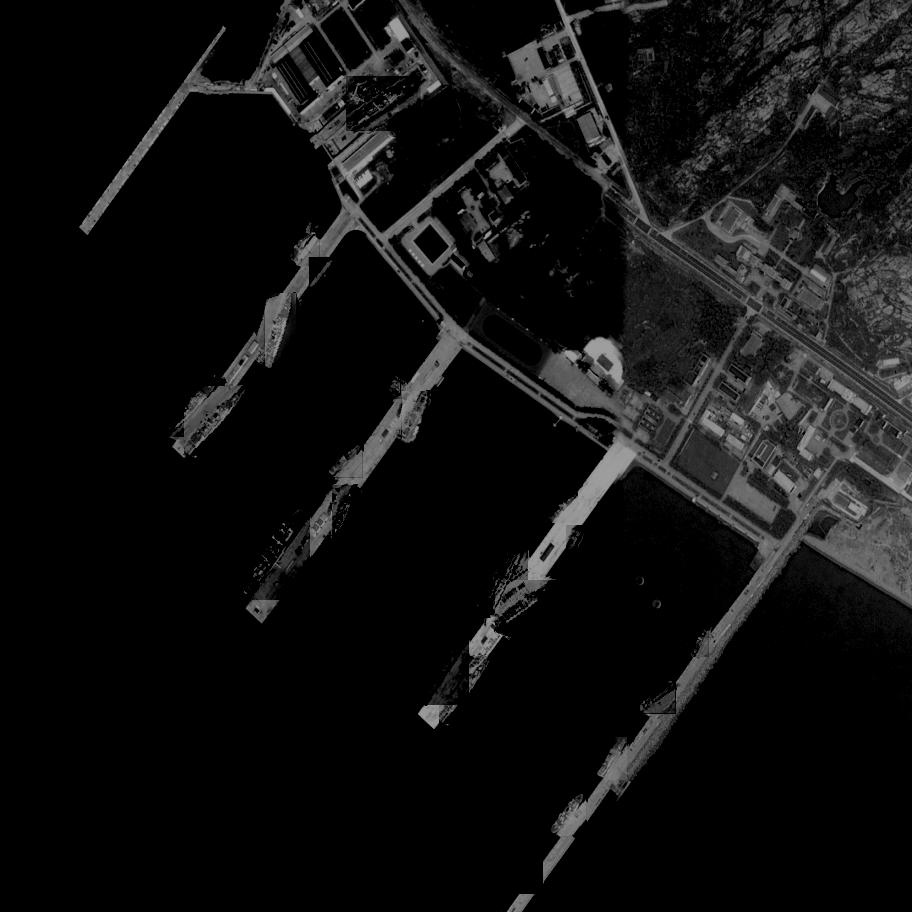ship: (237, 505, 311, 601), (184, 386, 251, 456), (346, 76, 422, 132), (416, 632, 470, 706), (439, 656, 497, 724), (478, 540, 529, 617), (161, 378, 226, 437), (495, 581, 562, 634), (265, 294, 297, 370), (551, 793, 589, 838), (402, 391, 433, 445), (333, 485, 360, 542), (597, 737, 629, 781), (511, 852, 544, 894), (329, 444, 366, 479), (639, 684, 679, 714), (548, 493, 579, 524), (294, 221, 315, 264), (309, 258, 337, 290), (295, 234, 322, 267), (692, 625, 710, 657), (567, 525, 585, 553), (318, 266, 333, 289), (572, 535, 592, 552), (389, 377, 403, 395), (395, 379, 407, 399), (406, 429, 419, 443)
